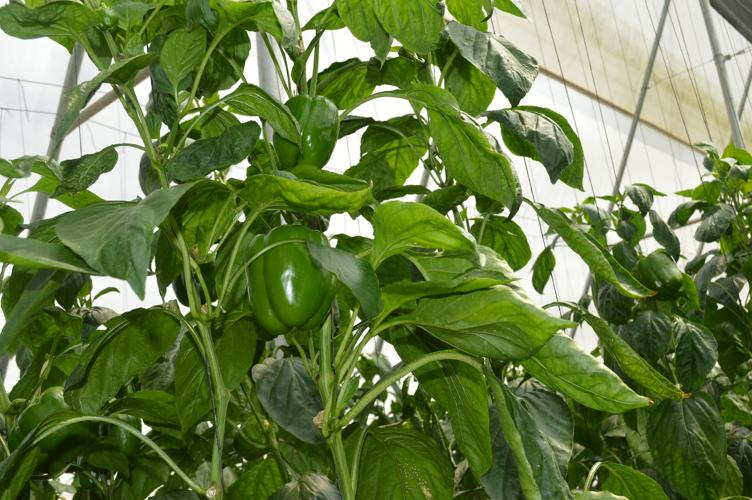BellPepper: (246, 226, 338, 326), (276, 97, 345, 169), (24, 389, 76, 452), (636, 248, 683, 297), (102, 414, 143, 456)
